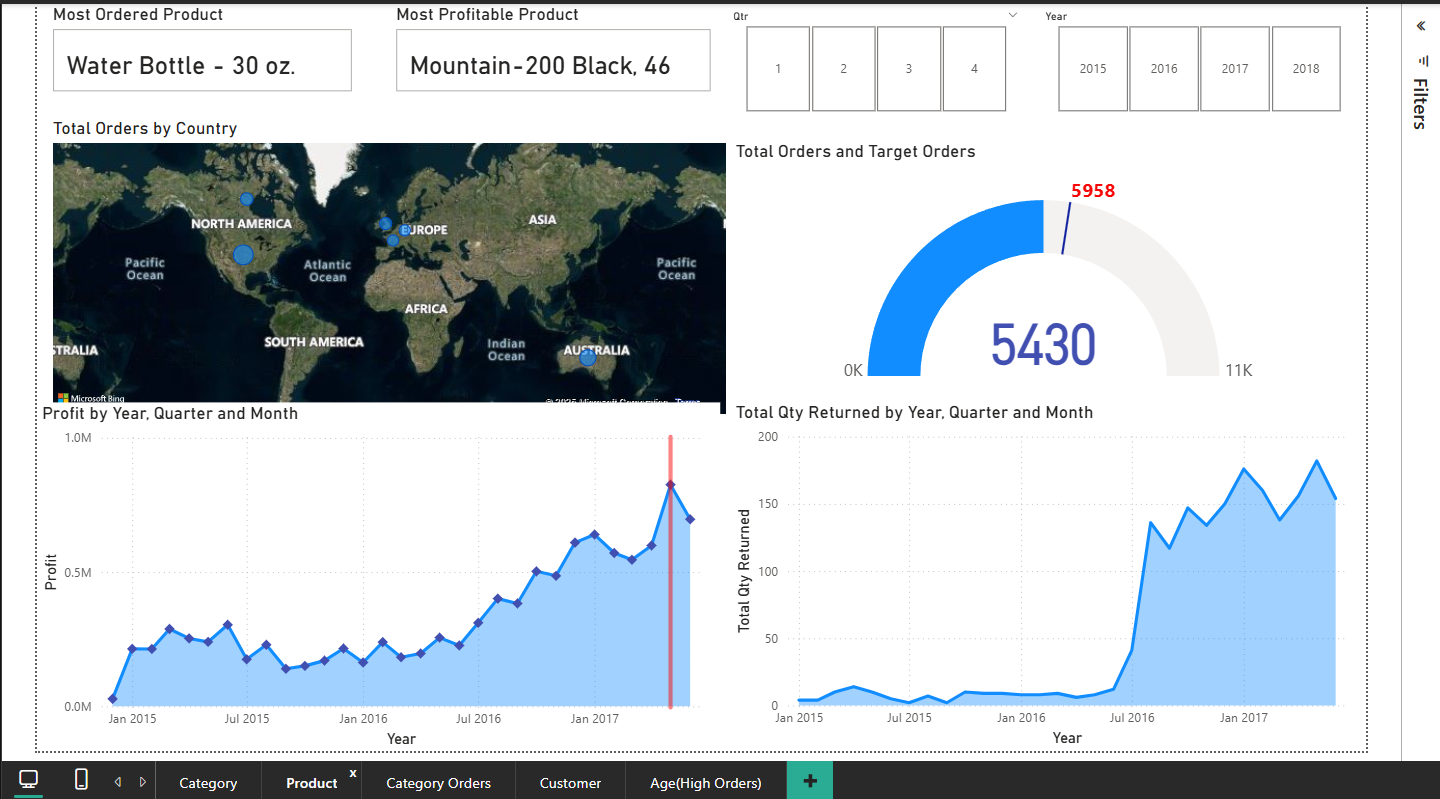

Layout of this report page (visuals, bound fields, positions):
{"tool":"powerbi","page":{"name":"Product","canvas":[1280,720],"ordinal":1},"visuals":[{"type":"cardVisual","title":"Most Ordered Product","fields":{"Data":["Min(Products.ProductName)"]},"box":[10,0,298.3,90],"z":0},{"type":"cardVisual","title":"Most Profitable Product","fields":{"Data":["Min(Products.ProductName)"]},"box":[341.7,0,313.3,90],"z":1},{"type":"map","fields":{"Category":["Region.Country"],"Size":["Sales.Total Orders"]},"box":[10,110,658.3,290],"z":2},{"type":"areaChart","fields":{"Category":["Calendar_Tbl.Week_Start.Variation.Date Hierarchy.Year","Calendar_Tbl.Week_Start.Variation.Date Hierarchy.Quarter","Calendar_Tbl.Week_Start.Variation.Date Hierarchy.Month","Calendar_Tbl.Week_Start.Variation.Date Hierarchy.Day"],"Y":["Sales.Profit"]},"box":[0,383.3,658.3,336.7],"z":3},{"type":"areaChart","fields":{"Category":["Calendar_Tbl.Week_Start.Variation.Date Hierarchy.Year","Calendar_Tbl.Week_Start.Variation.Date Hierarchy.Quarter","Calendar_Tbl.Week_Start.Variation.Date Hierarchy.Month","Calendar_Tbl.Week_Start.Variation.Date Hierarchy.Day"],"Y":["Sales.Total Qty Returned"]},"box":[668,383,612,337],"z":4},{"type":"gauge","fields":{"Y":["Sales.Total Orders"],"TargetValue":["Sales.Target Orders"]},"box":[668.3,131.7,611.7,236.7],"z":5},{"type":"slicer","fields":{"Values":["Calendar_Tbl.Year"]},"box":[958.3,0,321.7,110],"z":6},{"type":"slicer","fields":{"Values":["Calendar_Tbl.Qtr"]},"box":[658.3,0,300,110],"z":7}]}

Visuals, with their boxes on the page's 1280x720 design canvas (x1, y1, x2, y2). These are canvas units, not pixel positions in the 1440x799 screenshot, which may show the page scaled, cropped or inside an application window:
"Most Ordered Product" cardVisual: [10,0,308,90]
"Most Profitable Product" cardVisual: [342,0,655,90]
map - Region.Country x Sales.Total Orders: [10,110,668,400]
areaChart - Calendar_Tbl.Week_Start.Variation.Date Hierarchy.Year x Calendar_Tbl.Week_Start.Variation.Date Hierarchy.Quarter: [0,383,658,720]
areaChart - Calendar_Tbl.Week_Start.Variation.Date Hierarchy.Year x Calendar_Tbl.Week_Start.Variation.Date Hierarchy.Quarter: [668,383,1280,720]
gauge - Sales.Total Orders x Sales.Target Orders: [668,132,1280,368]
slicer - Calendar_Tbl.Year: [958,0,1280,110]
slicer - Calendar_Tbl.Qtr: [658,0,958,110]
